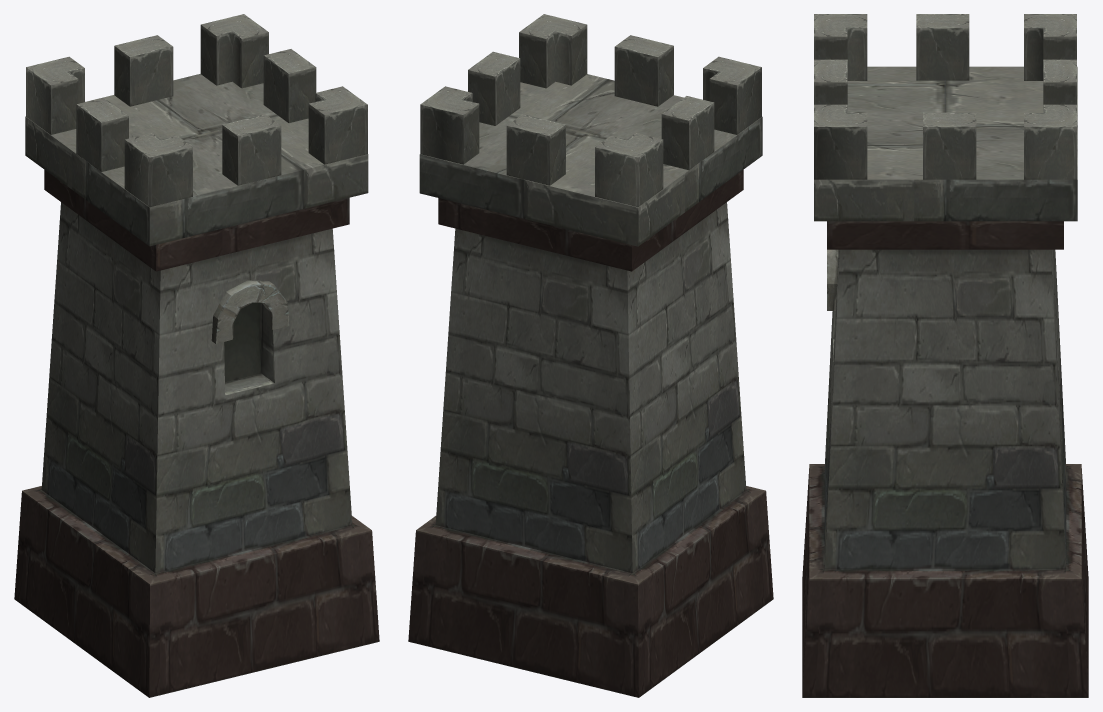
The model's file is building_city_chengqiang02.FBX.
3 renders of one model, left to right at view 1: azimuth 30°, elevation 25°; view 2: azimuth 150°, elevation 25°; view 3: azimuth 270°, elevation 25°, orthographic. The views are drawn at different scales.
Parts seen in each view (by area): view 1: building_city_chengqiang02; view 2: building_city_chengqiang02; view 3: building_city_chengqiang02.
Boxes of the visible parts, x1,y1,x2,y2 form: building_city_chengqiang02: [14, 14, 379, 697]; building_city_chengqiang02: [408, 14, 773, 697]; building_city_chengqiang02: [802, 14, 1088, 697].
Bounding box in the file's own units: 6.25 × 13.85 × 6.33.
